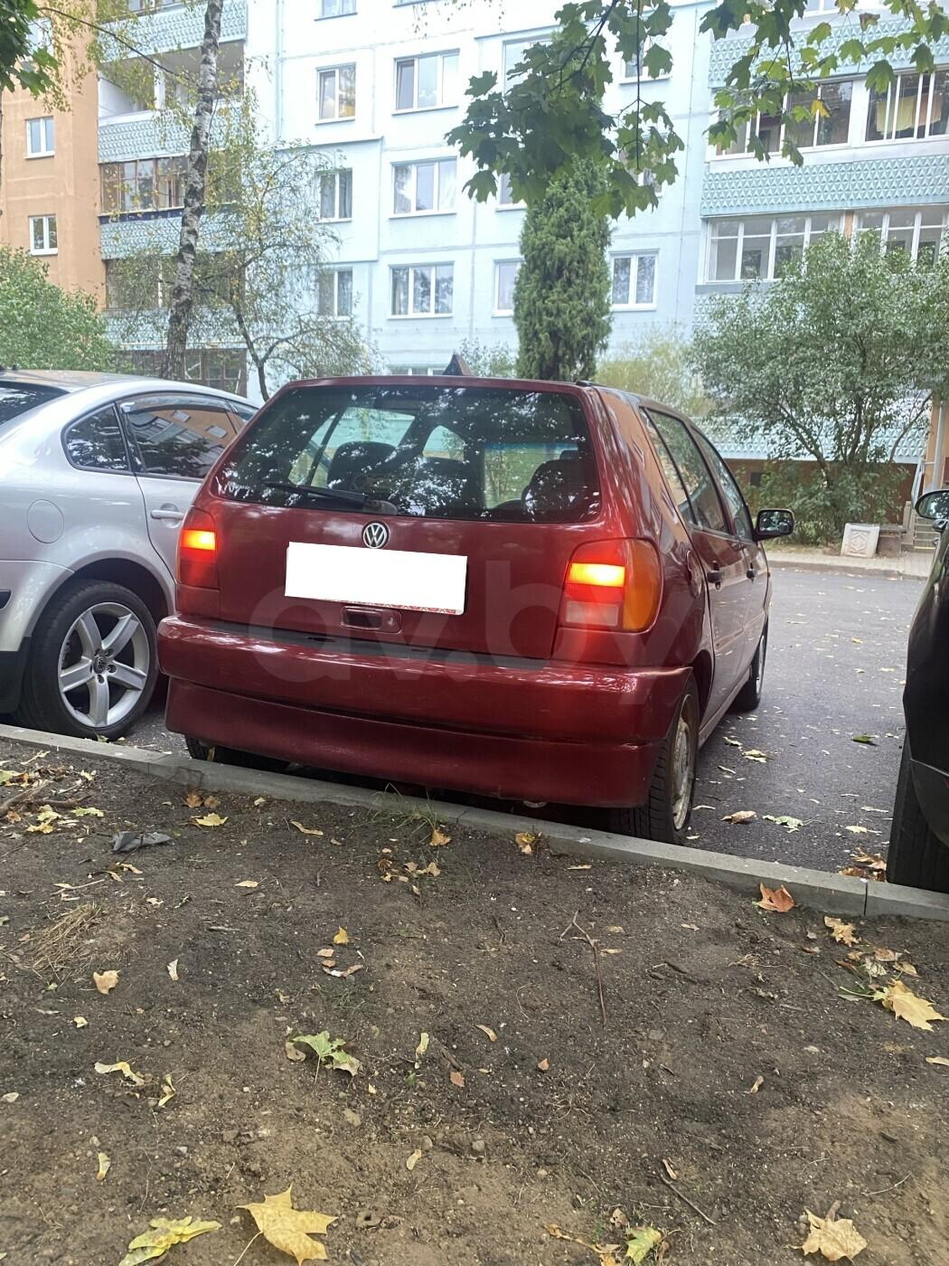Polo_1994-2002: (164, 368, 777, 830)
